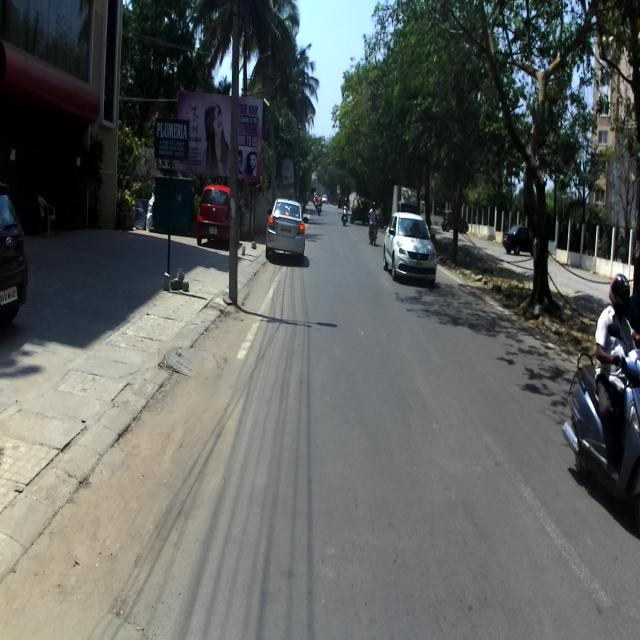car ahead at: (383, 210, 437, 284), (268, 190, 307, 264)
electric pole ahead at: (222, 0, 248, 306)
motorcycle ahead at: (568, 350, 640, 519)
